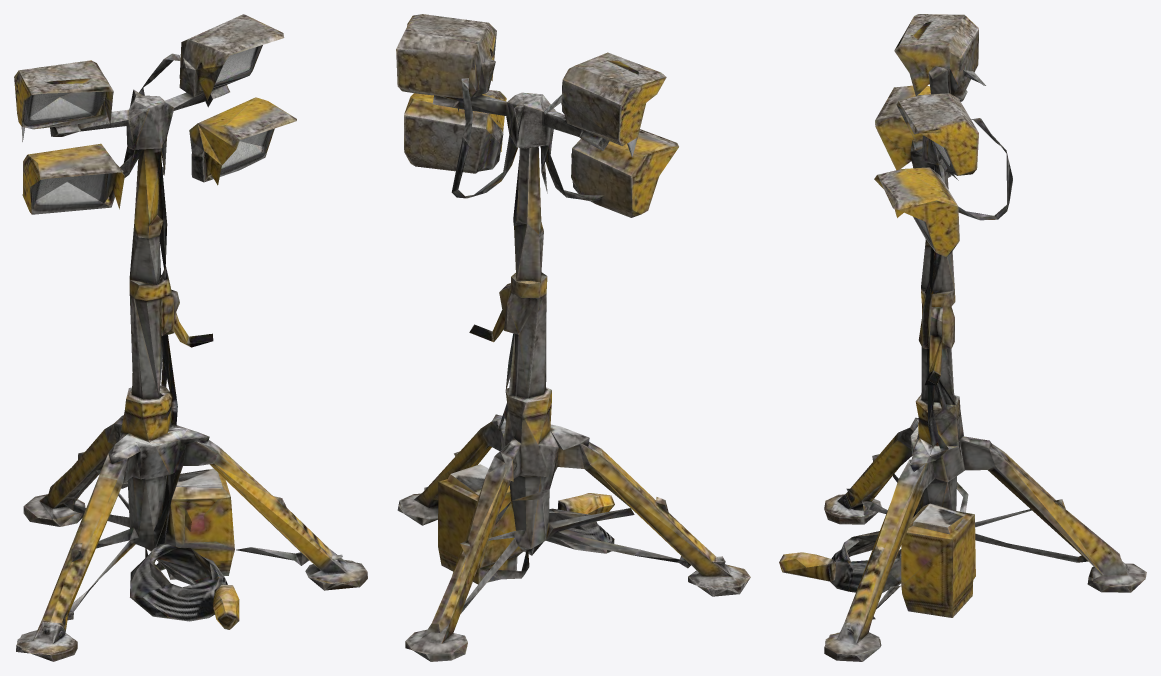
The model's file is floodlight.glb.
3 renders of one model, left to right at view 1: azimuth 30°, elevation 25°; view 2: azimuth 150°, elevation 25°; view 3: azimuth 270°, elevation 25°, orthographic. The views are drawn at different scales.
Parts seen in each view (by area): view 1: Mesh_0; view 2: Mesh_0; view 3: Mesh_0.
Boxes of the visible parts, x1,y1,x2,y2 form: Mesh_0: (14, 14, 367, 661); Mesh_0: (396, 14, 750, 661); Mesh_0: (779, 14, 1146, 661).
Size of the model in its own units: 1.28 by 1.9 by 1.23.
1 material, 1 textured.
